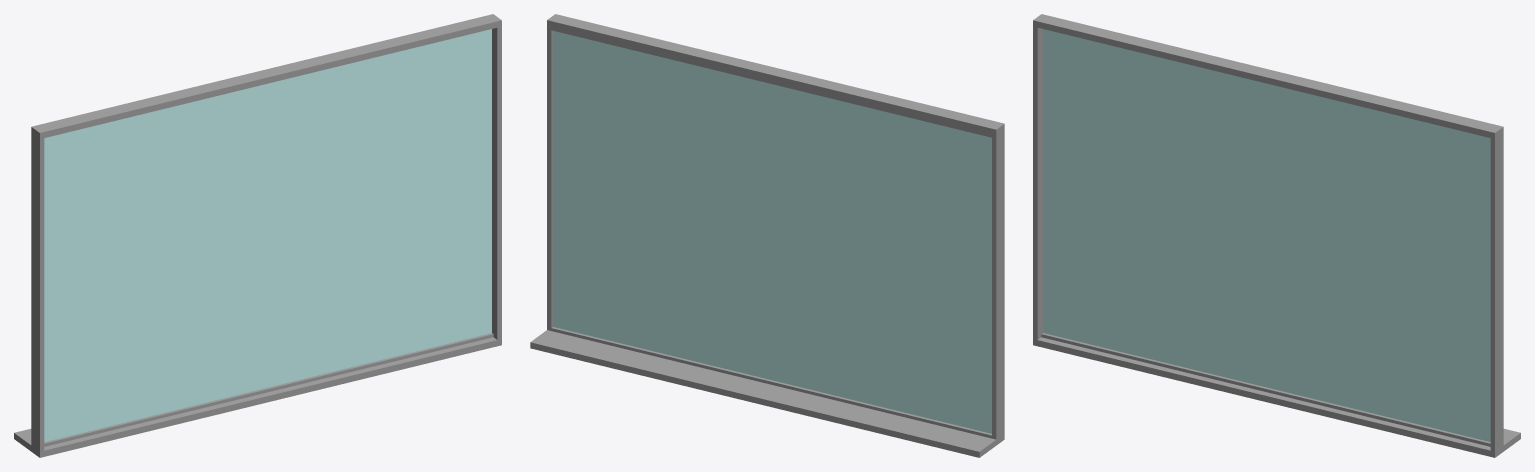
File: Apt_Window.fbx
The picture shows the model from 3 angles, left to right: view 1: azimuth 30°, elevation 25°; view 2: azimuth 150°, elevation 25°; view 3: azimuth 330°, elevation 25°; orthographic projection. The views are drawn at different scales.
Visible parts, largest first — view 1: polySurface1, polySurface2; view 2: polySurface1, polySurface2; view 3: polySurface1, polySurface2.
Part boxes in pixels (bbox=[...]): polySurface1: bbox=[44, 29, 491, 441]; polySurface2: bbox=[14, 14, 501, 457]; polySurface1: bbox=[553, 30, 991, 433]; polySurface2: bbox=[530, 14, 1004, 457]; polySurface1: bbox=[1043, 29, 1490, 441]; polySurface2: bbox=[1033, 14, 1520, 457].
Size of the model in its own units: 3.1 by 2.08 by 0.3.
